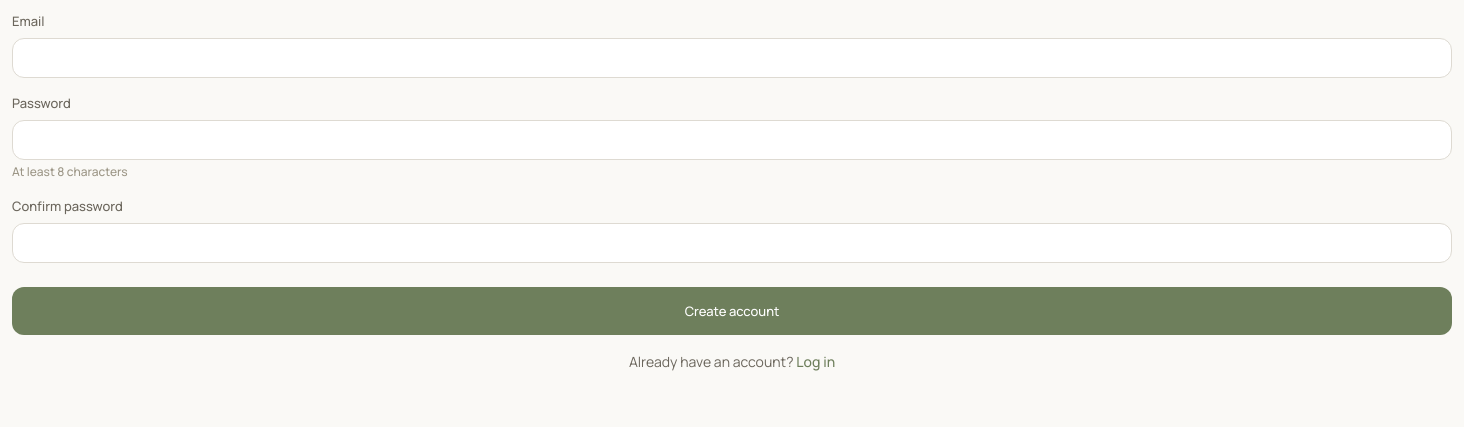
RegisterForm › shows an inline error with a login link when the email is already registered (409)
Type "new@example.com" into the field labelled "Email" at (732, 58), box [12,38,1452,78]
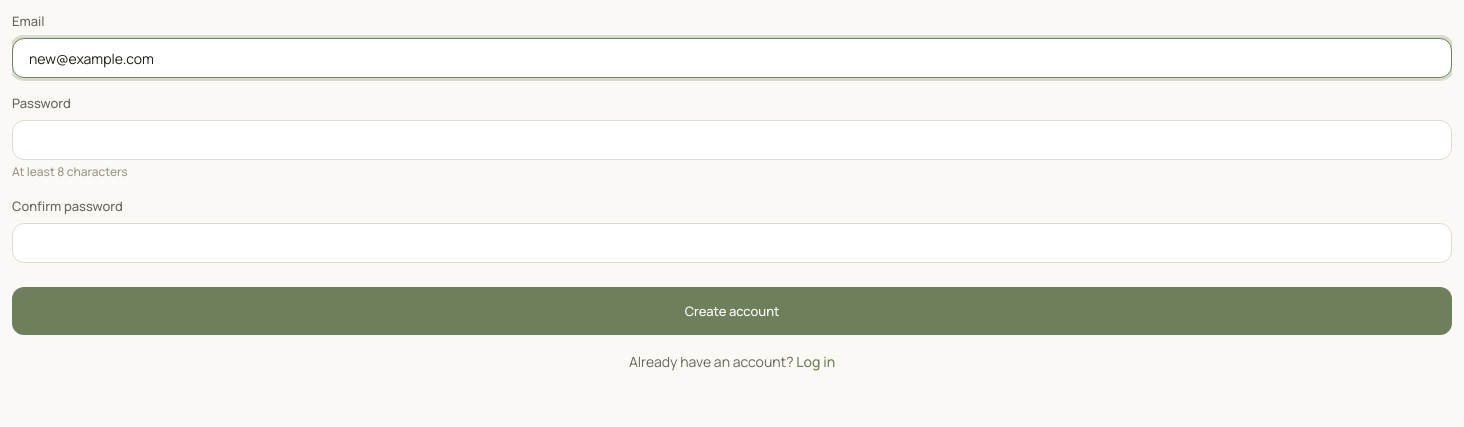
Type "supersecret123" into the password field labelled "Password" at (732, 140), box [12,120,1452,160]
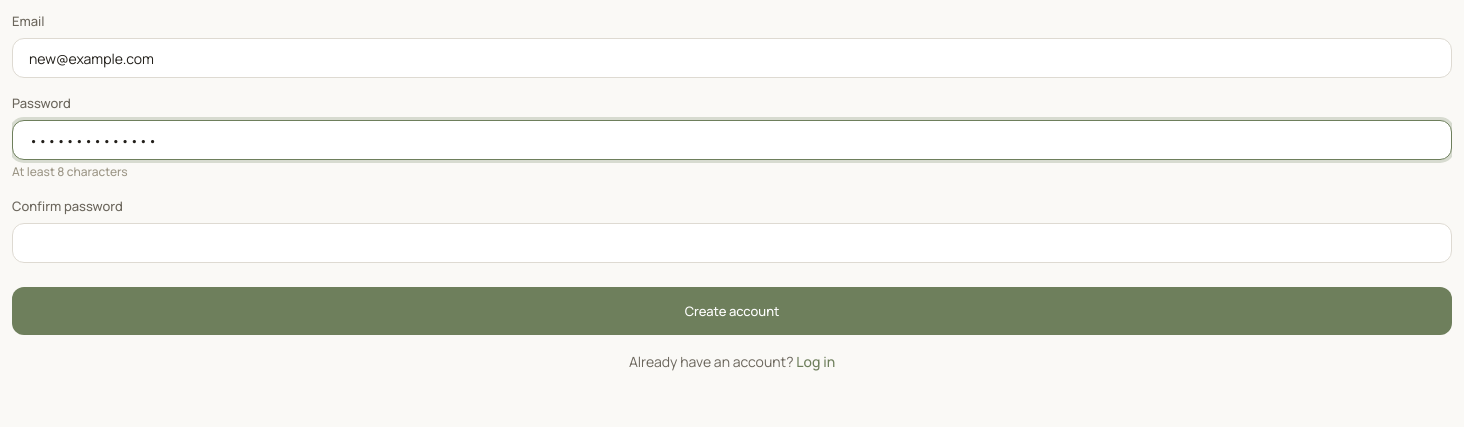
Type "supersecret123" into the password field labelled "Confirm password" at (732, 243), box [12,223,1452,263]
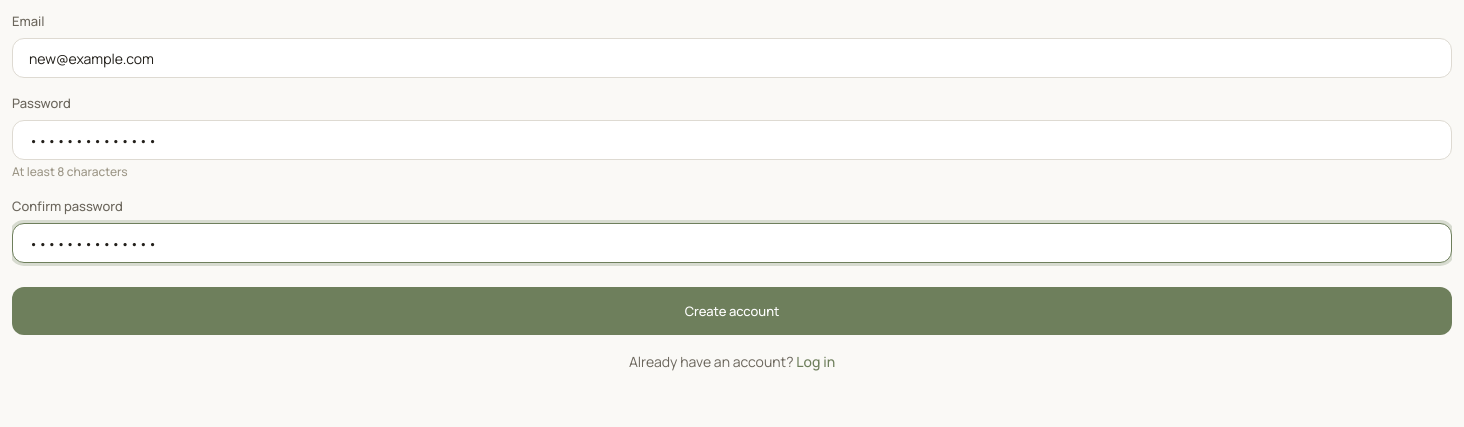
Click the button "Create account" at (732, 311), box [12,287,1452,335]
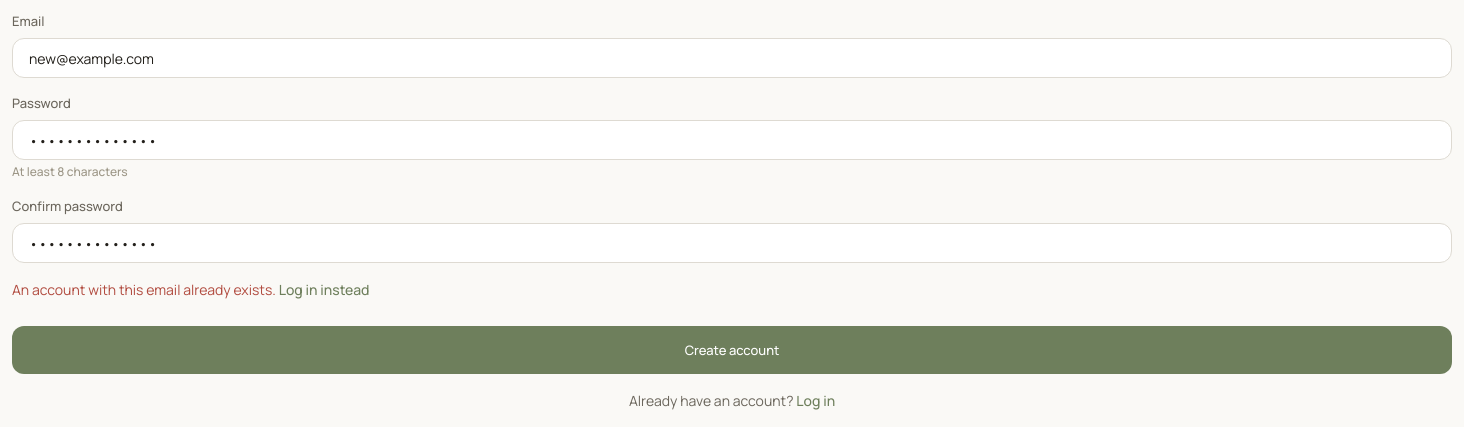
Expected: the message shows "An account with this email already exists.", [12,280,276,299]
Expected: the link "Log in instead" is shown, [279,280,370,299]
